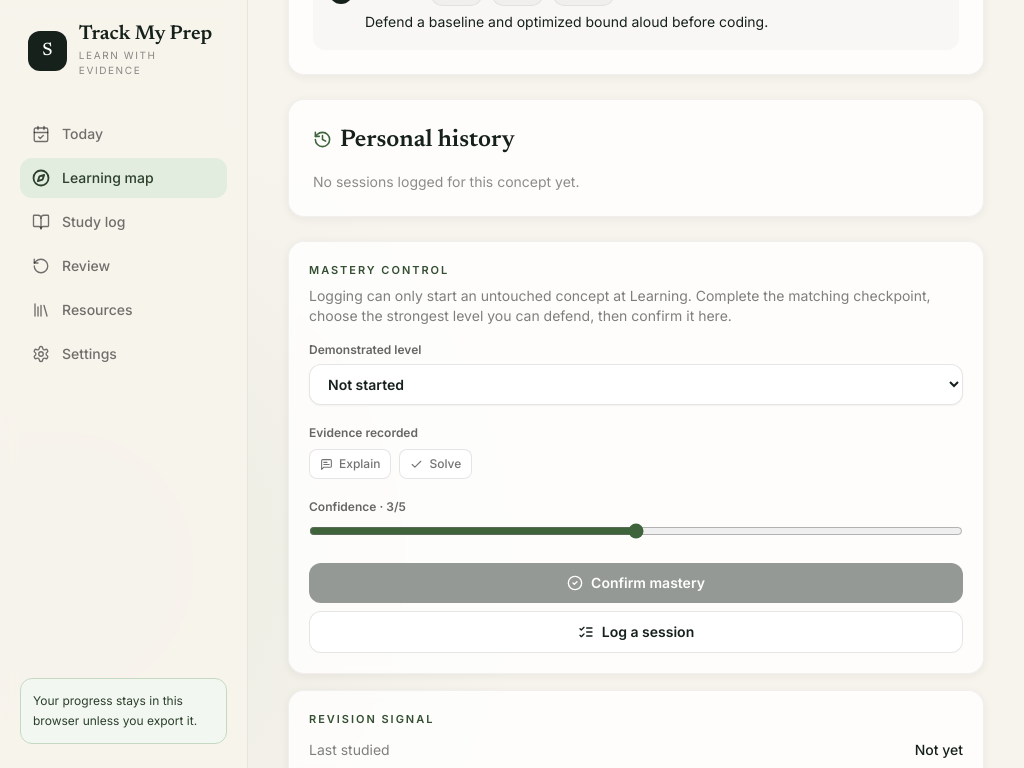
it: critical application views › requires a separate confirmation before applying a selected mastery level
(page scrolled)
Expected: the button "Confirm mastery" is disabled, [309,563,963,603]
Select "Practiced" in the dropdown labelled "Demonstrated level": (636, 384) [309,364,963,405]
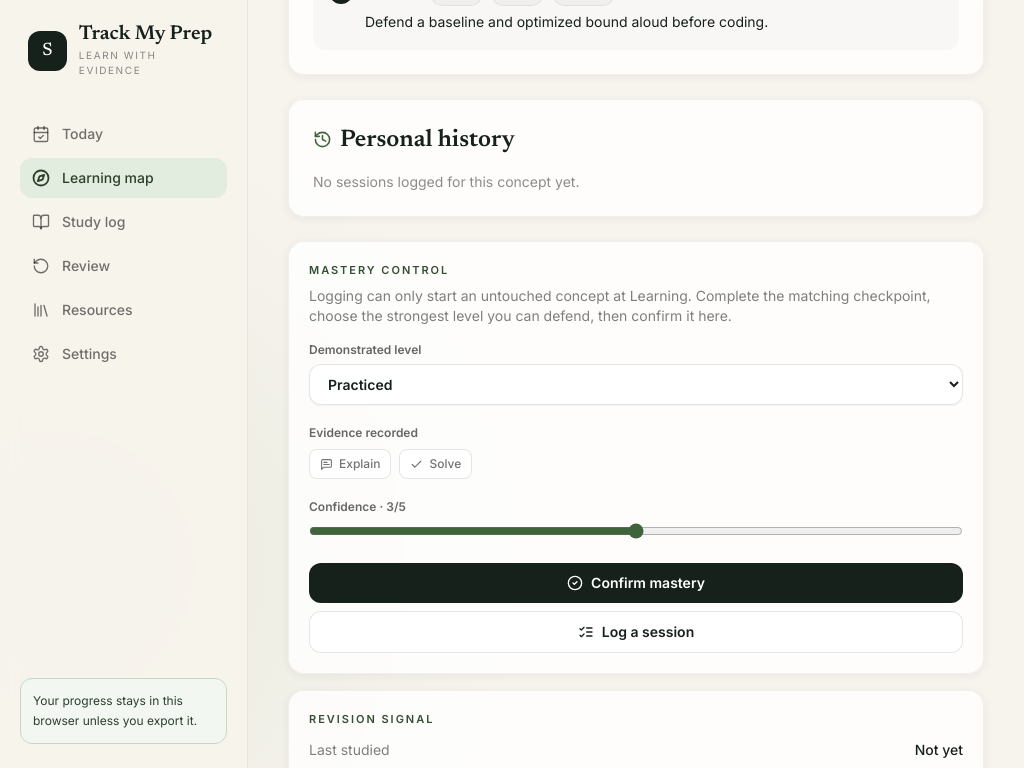
Expected: the button "Confirm mastery" is enabled
Click the button "Confirm mastery": (636, 583) [309,563,963,603]
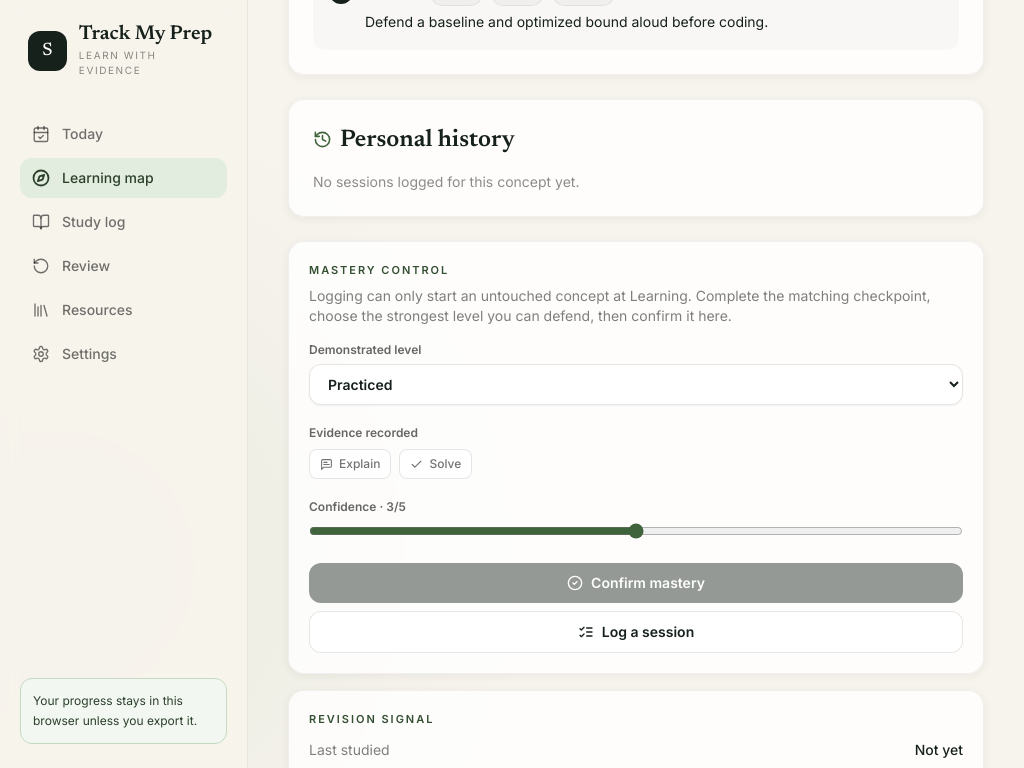
Expected: the button "Confirm mastery" is disabled, [309,563,963,603]
